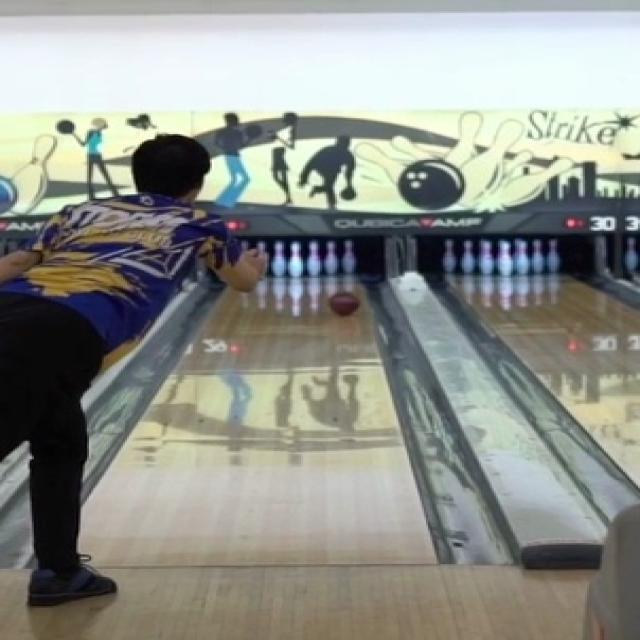alley: (83, 280, 432, 566)
balls: (331, 291, 358, 315)
bottle: (261, 238, 358, 275)
